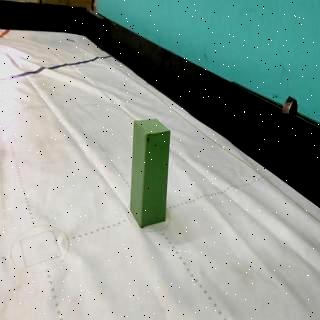greenbox: (130, 118, 172, 228)
